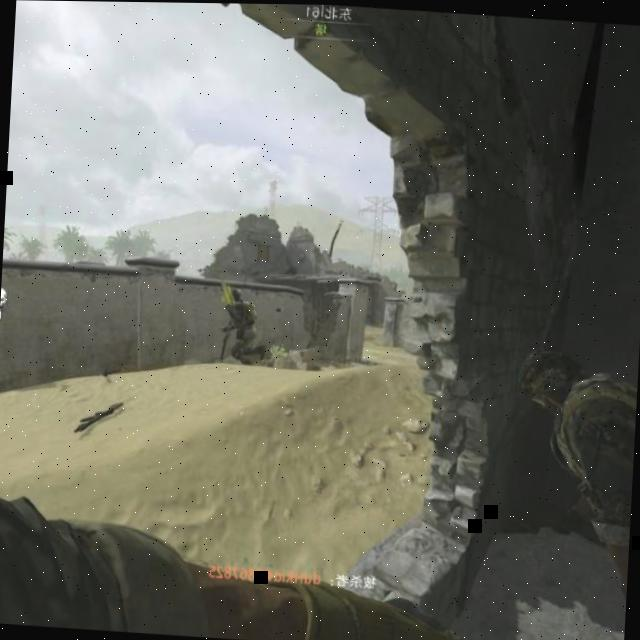MW2_body: (222, 289, 264, 367)
